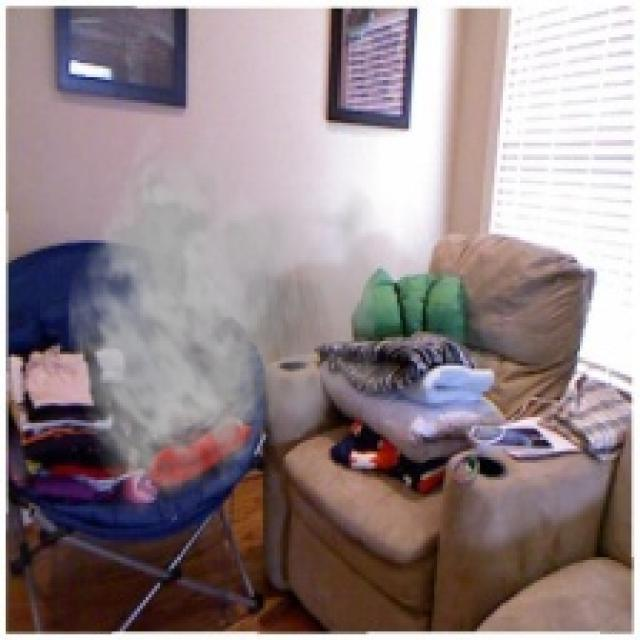Smoke: (66, 117, 408, 517)
